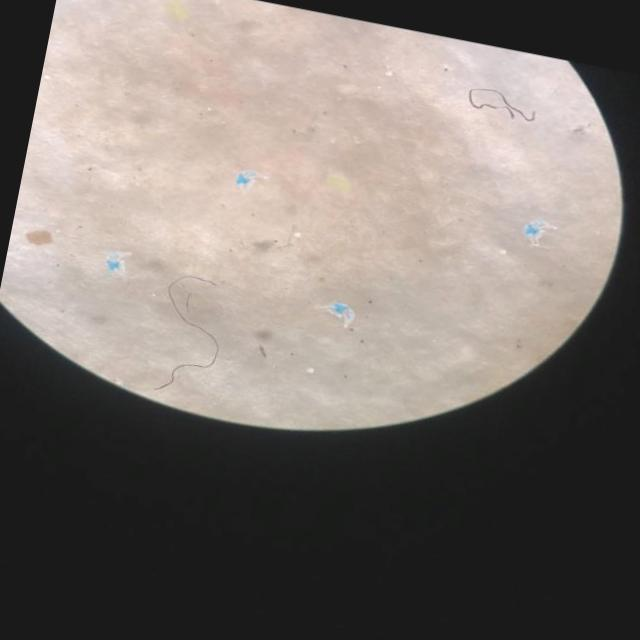fiber: (154, 277, 220, 392), (469, 88, 536, 122)
film: (332, 304, 355, 325), (526, 221, 552, 230), (111, 255, 124, 273), (238, 171, 258, 179)
fragment: (166, 0, 189, 21), (329, 173, 350, 194), (27, 230, 52, 246)
pellet: (385, 71, 393, 77), (308, 368, 314, 374), (499, 250, 506, 255), (295, 233, 300, 238)
